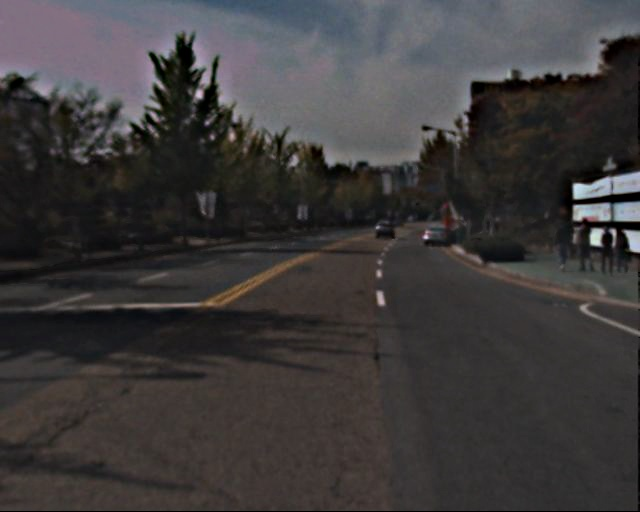person: (572, 215, 601, 276), (554, 216, 579, 274), (607, 225, 632, 275), (597, 225, 618, 276)
